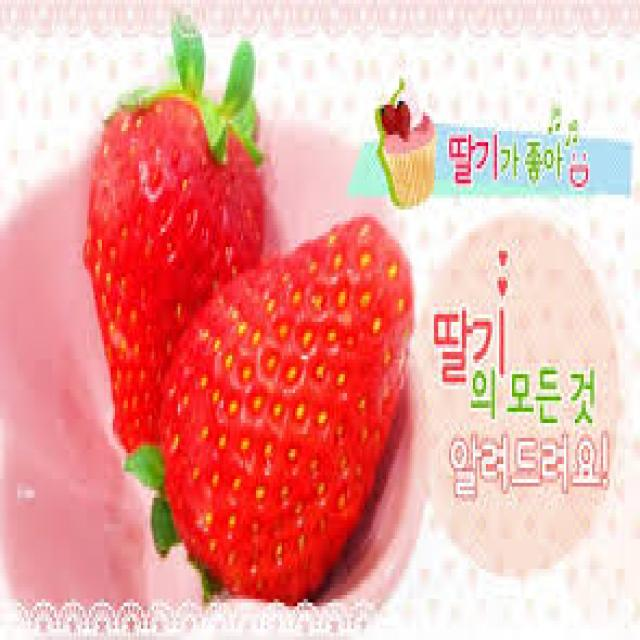mature: (160, 216, 415, 606), (82, 97, 266, 453)
